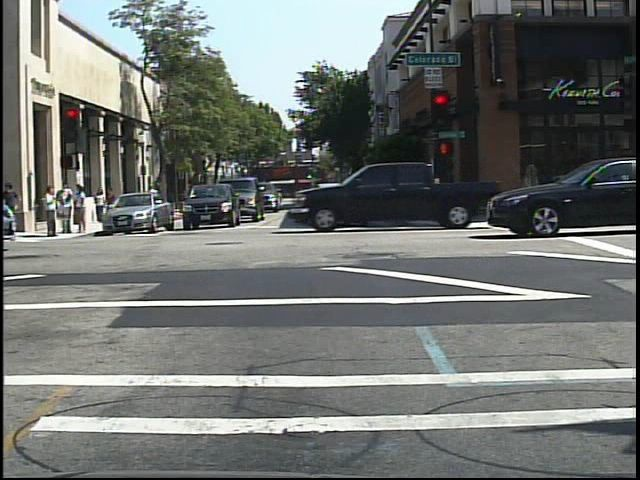person: (146, 180, 165, 219), (94, 187, 108, 225), (146, 180, 161, 212)
